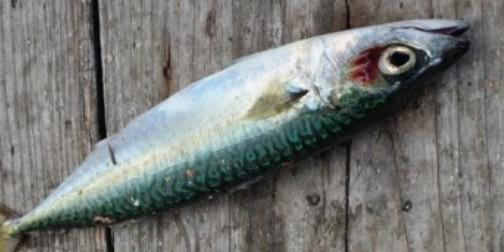fish: (0, 19, 469, 251)
